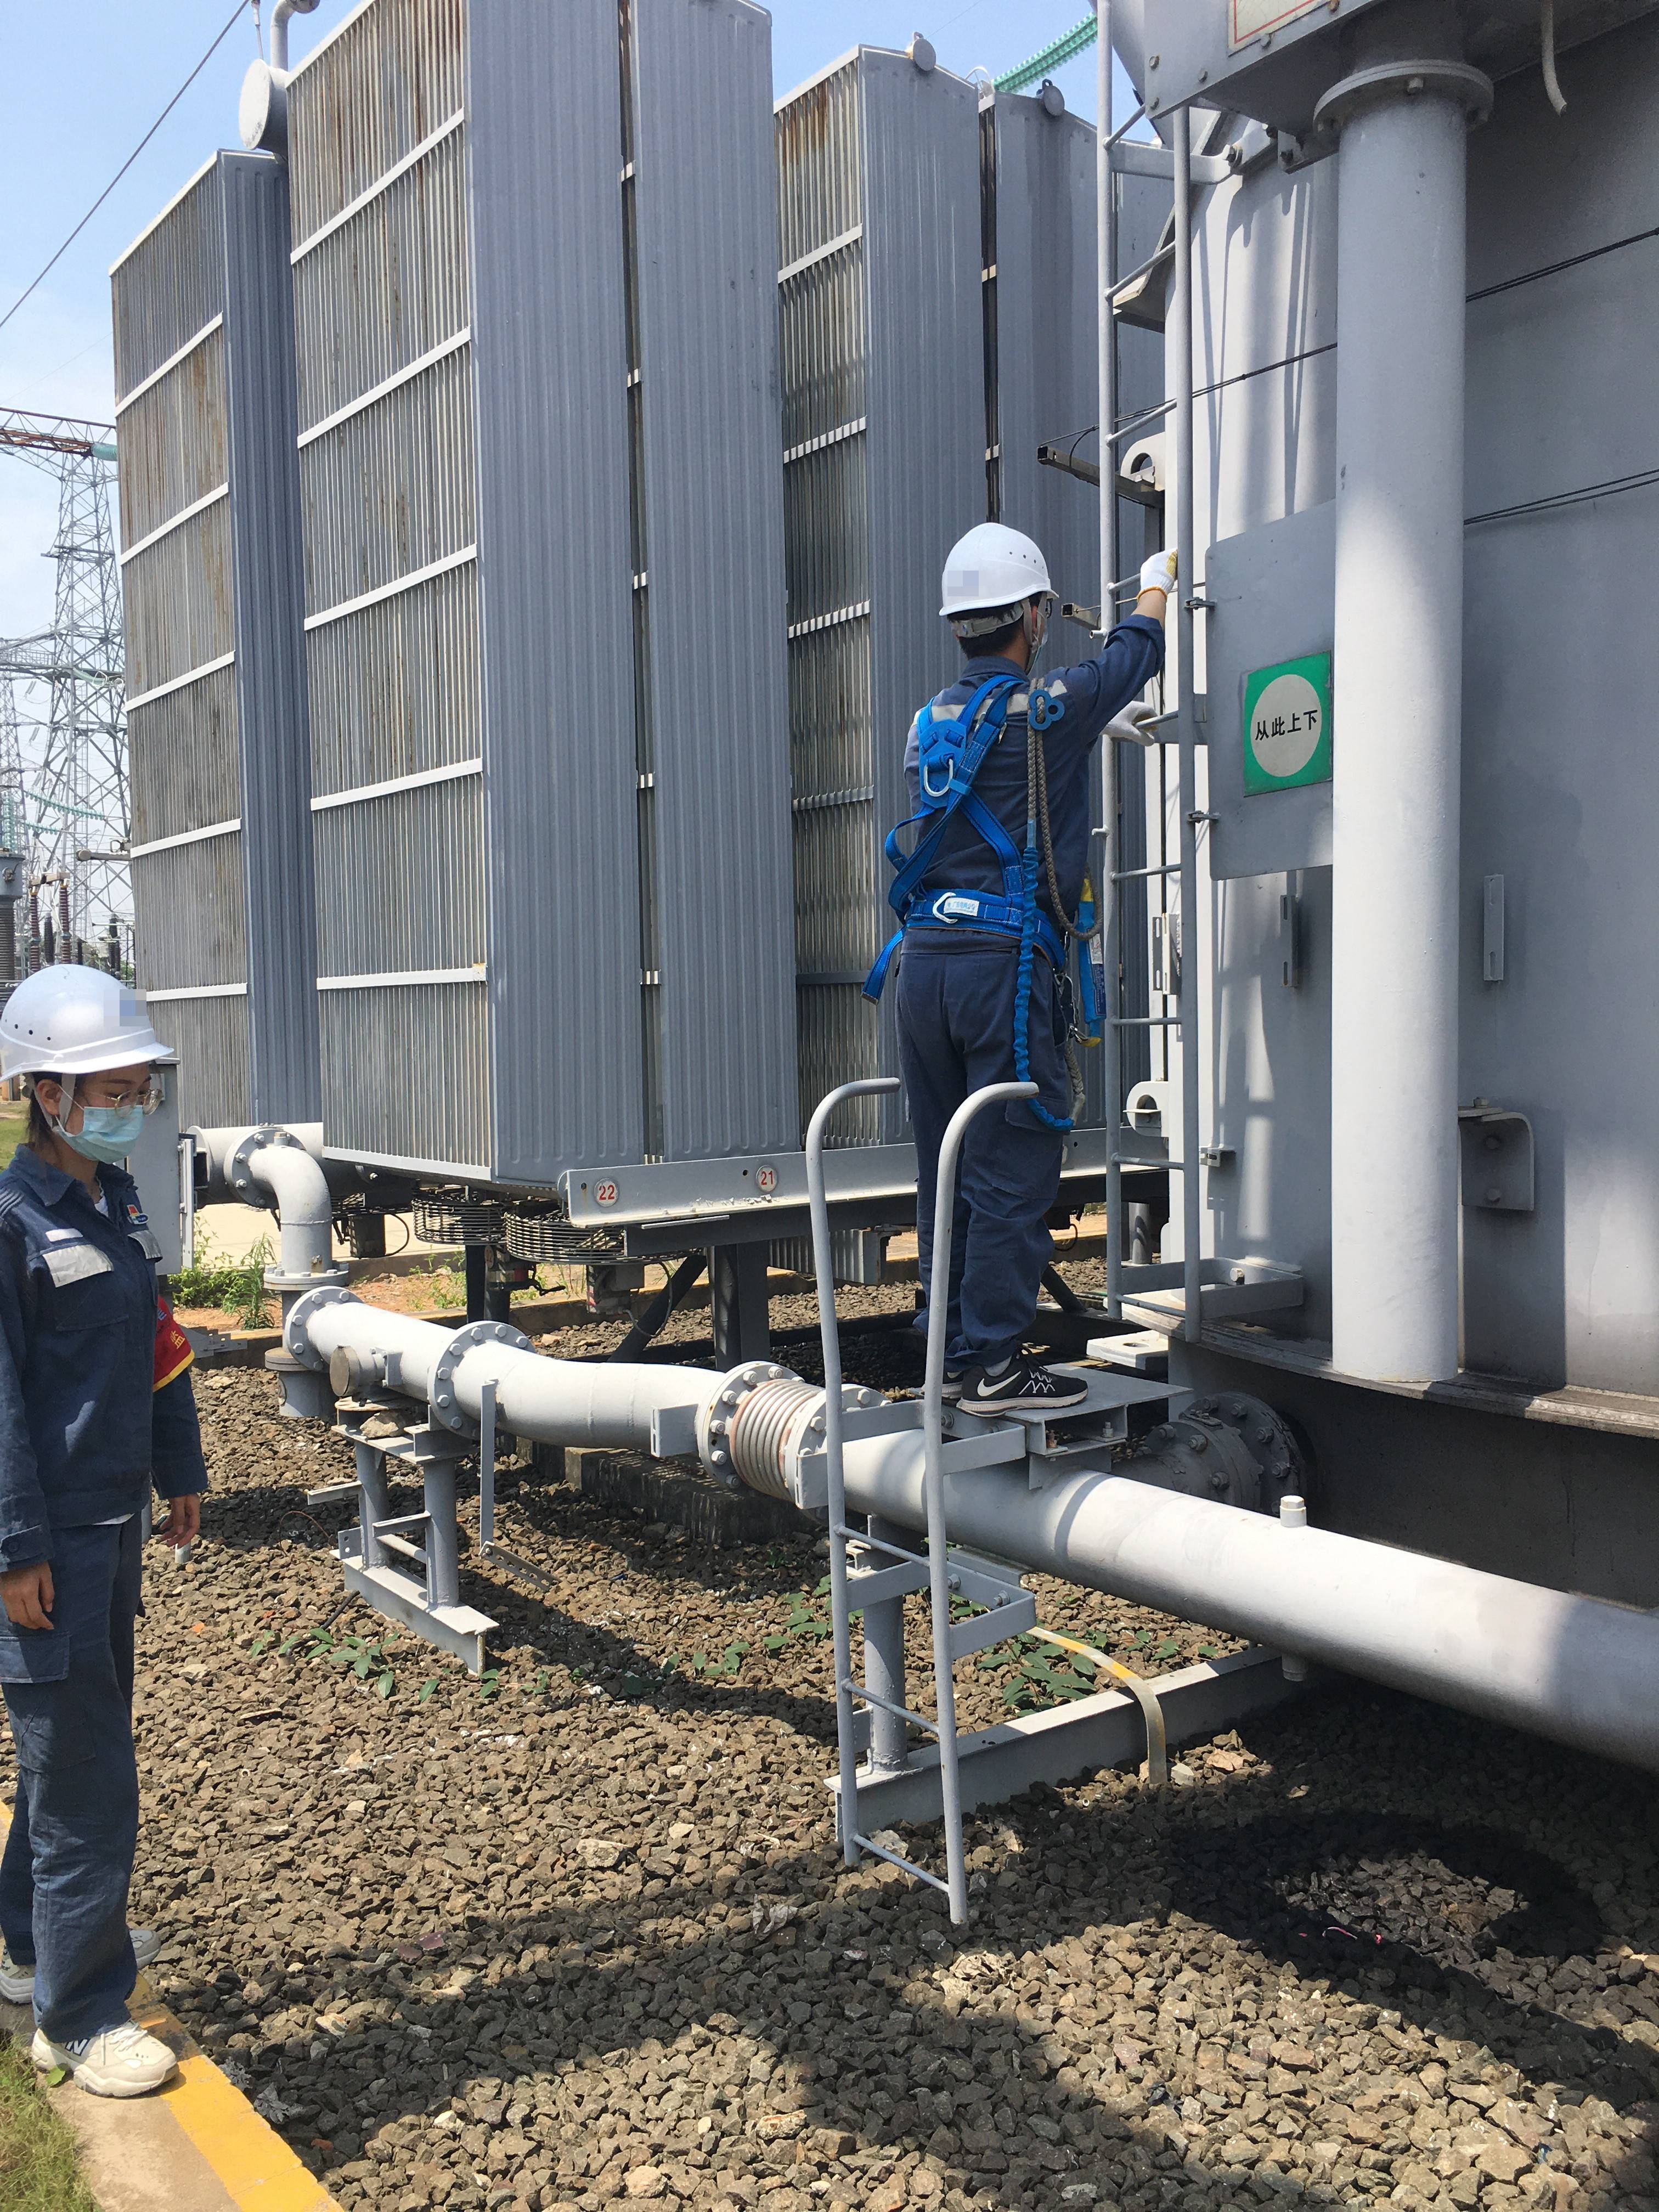downsuit: (836, 921, 1094, 1407), (2, 1531, 213, 2036)
upsuit: (2, 1141, 223, 1568), (884, 655, 1195, 954)
